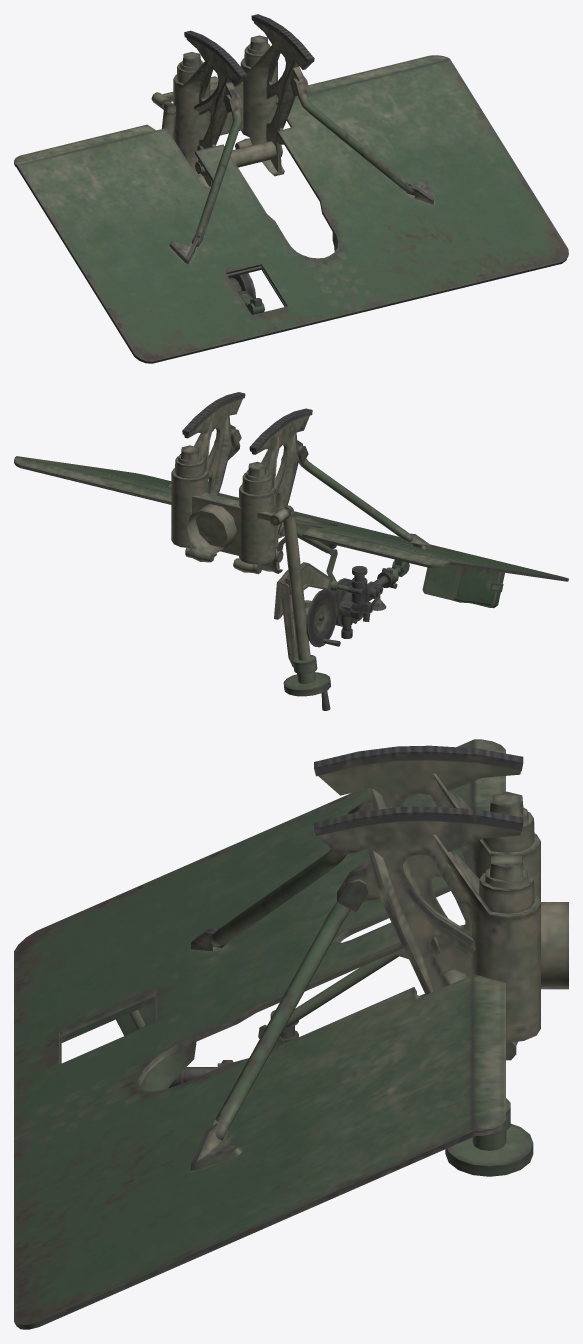
Rendered from Turret_02.glb.
3 renders of one model, top to bottom at view 1: azimuth 30°, elevation 25°; view 2: azimuth 150°, elevation 25°; view 3: azimuth 270°, elevation 25°, orthographic. The views are drawn at different scales.
Parts seen in each view (by area): view 1: set_0_group_0; view 2: set_0_group_0; view 3: set_0_group_0.
Boxes of the visible parts, x1,y1,x2,y2 form: set_0_group_0: (14,14,568,363); set_0_group_0: (14,392,568,710); set_0_group_0: (14,739,568,1329).
Bounding box in the file's own units: 1.64 × 0.9367 × 0.9803.
Materials: 1 (1 with a texture image).
